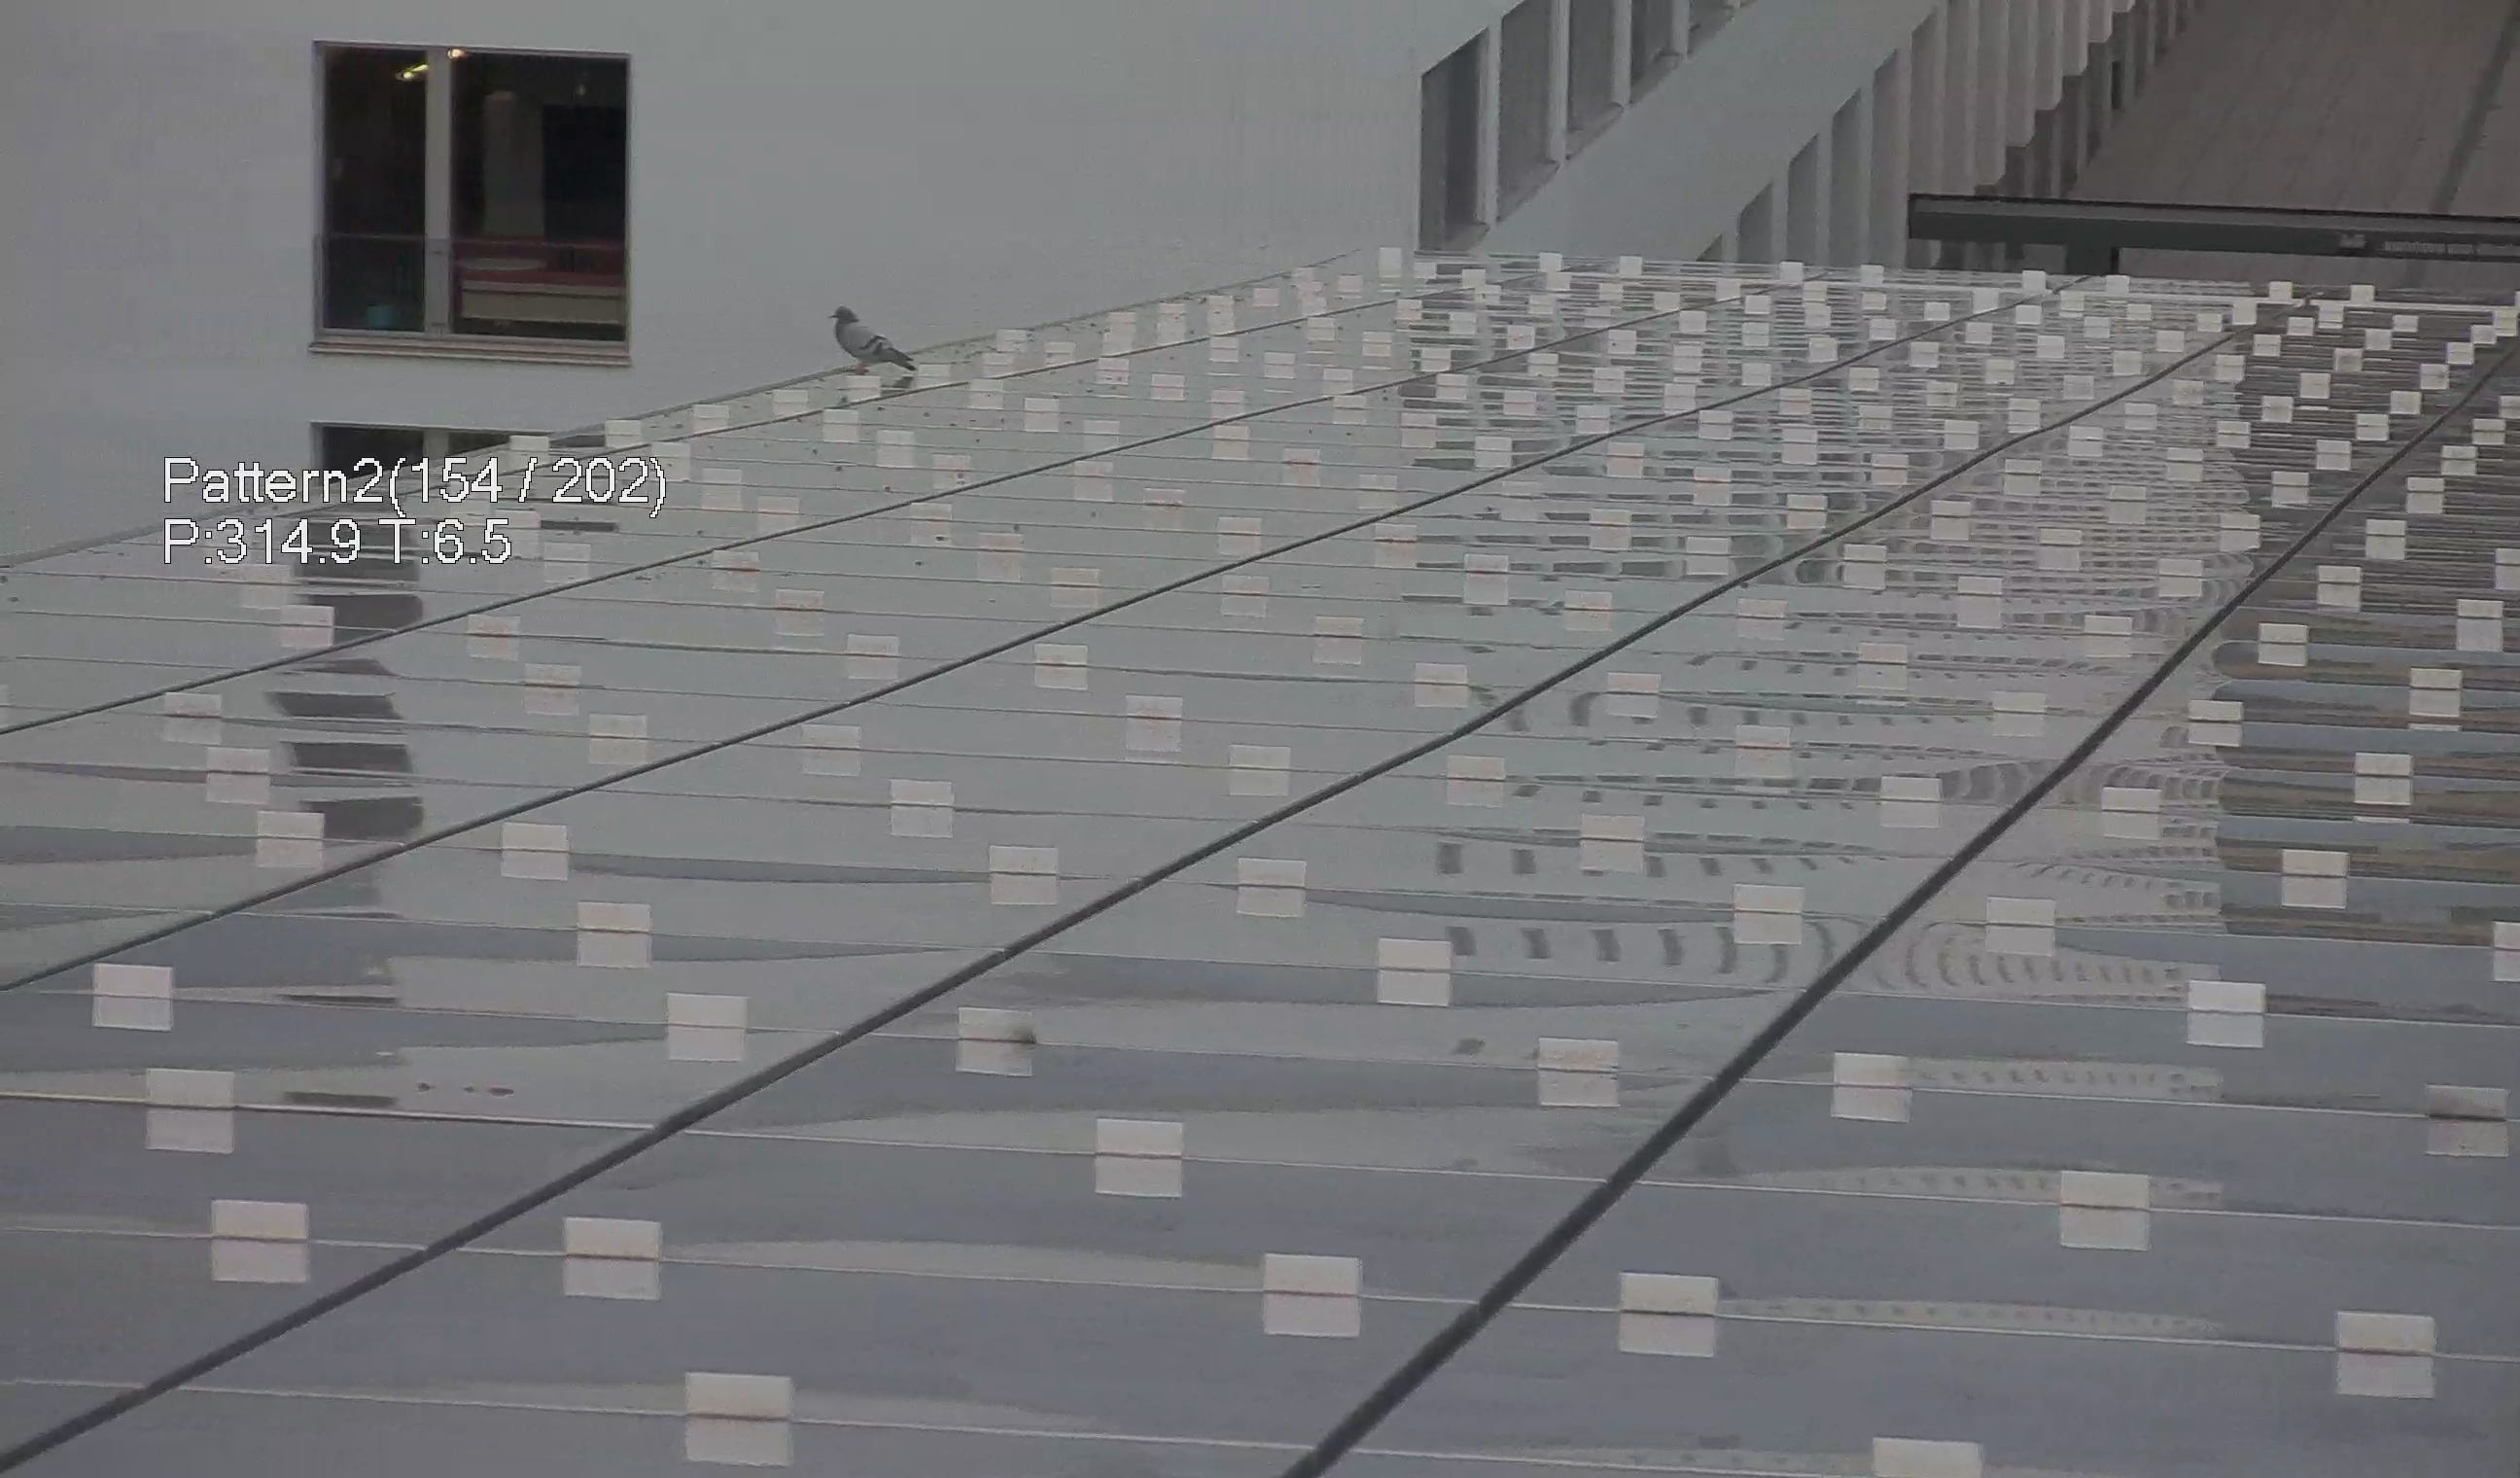Pigeon: (814, 289, 921, 380)
